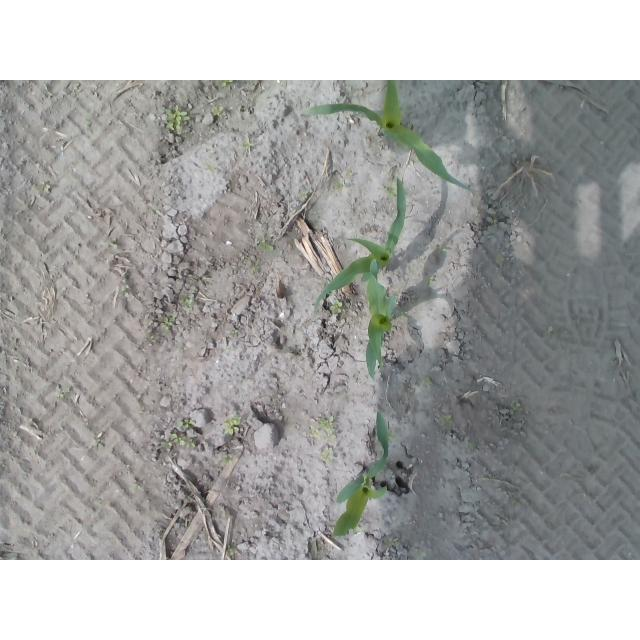Maize: (298, 80, 474, 194), (311, 179, 409, 315), (334, 408, 391, 536), (361, 270, 397, 382)
Weeds: (309, 414, 339, 464), (161, 104, 191, 130), (161, 431, 196, 449), (223, 416, 242, 437), (118, 279, 130, 298), (541, 324, 559, 336), (510, 400, 523, 415), (330, 299, 343, 314), (178, 417, 194, 429), (386, 183, 398, 198), (182, 295, 193, 311), (162, 317, 175, 330), (257, 239, 273, 249), (241, 138, 254, 150), (416, 548, 429, 560), (439, 415, 453, 426), (213, 104, 225, 116), (41, 180, 52, 193), (383, 537, 399, 545), (103, 240, 117, 249), (223, 454, 234, 465), (423, 375, 434, 385), (144, 335, 157, 343), (231, 328, 241, 337), (55, 392, 66, 400), (220, 80, 234, 86), (227, 545, 234, 557), (303, 190, 308, 198)
